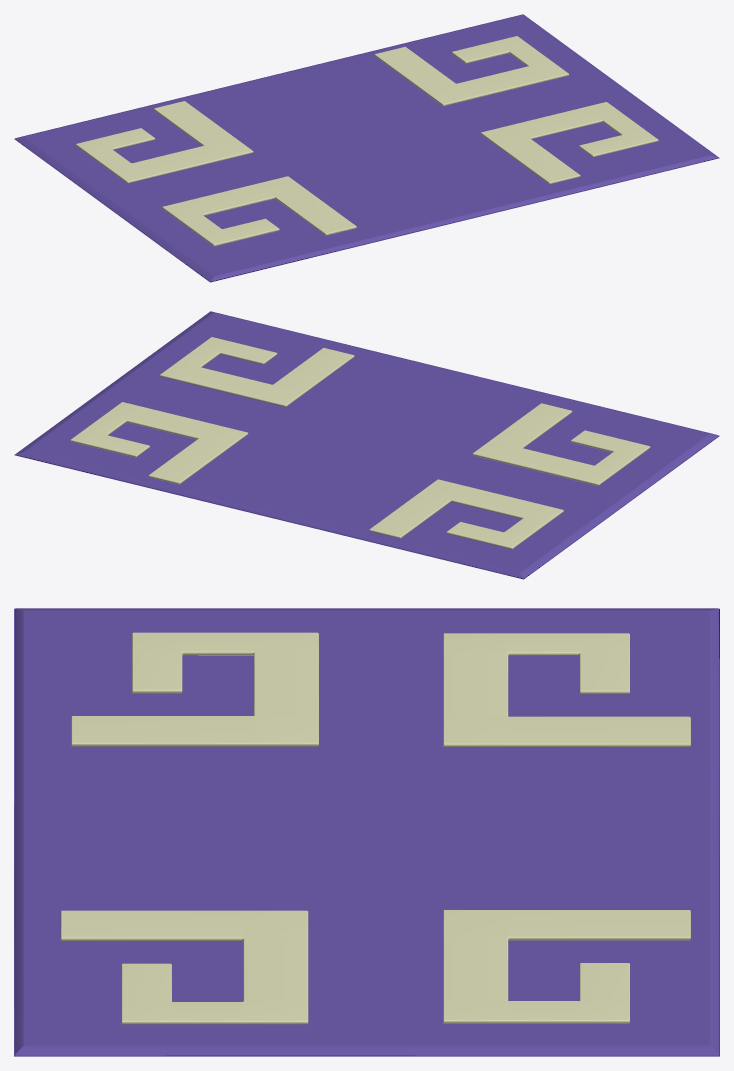
File: alfombra.fbx
3 renders of one model, top to bottom at view 1: azimuth 30°, elevation 25°; view 2: azimuth 150°, elevation 25°; view 3: azimuth 270°, elevation 25°, orthographic. The views are drawn at different scales.
Parts seen in each view (by area): view 1: polySurface15; view 2: polySurface15; view 3: polySurface15.
Part boxes in pixels (x1,y1,x2,y2): polySurface15: (14, 14, 719, 282); polySurface15: (14, 311, 719, 579); polySurface15: (14, 608, 719, 1056).
Bounding box in the file's own units: 309 × 2.89 × 206.
